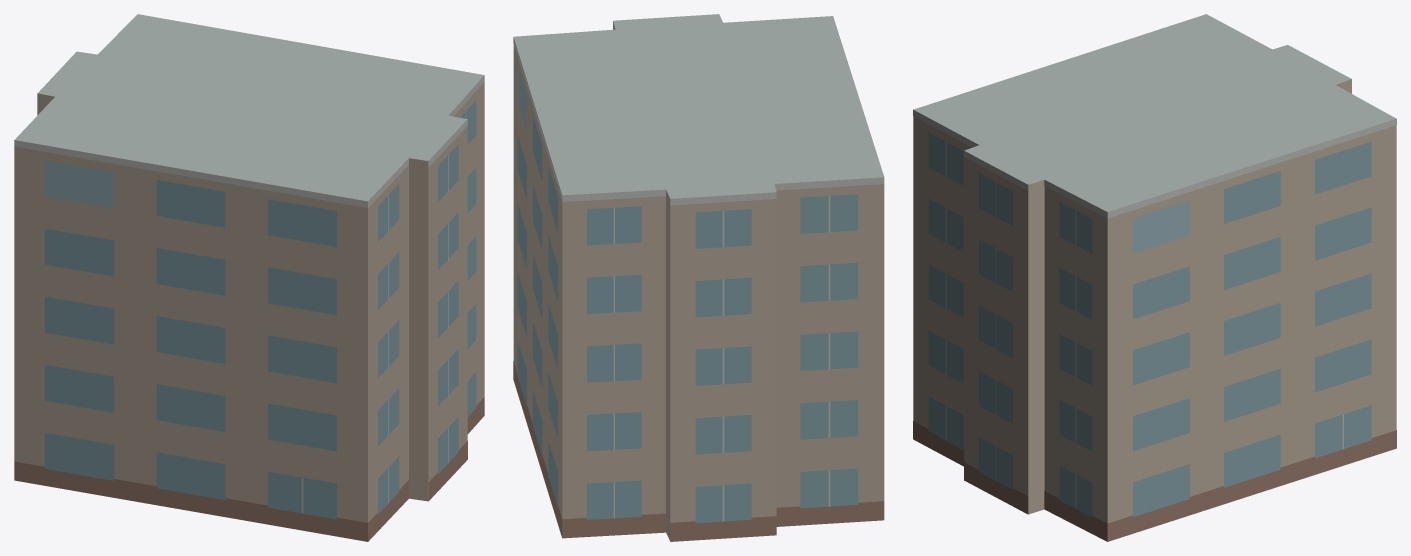
The model's file is survey-upis-32741708.glb.
3 renders of one model, left to right at view 1: azimuth 30°, elevation 25°; view 2: azimuth 150°, elevation 25°; view 3: azimuth 270°, elevation 25°, orthographic. The views are drawn at different scales.
Visible parts, largest first — view 1: survey-upis-32741708.tmp; view 2: survey-upis-32741708.tmp; view 3: survey-upis-32741708.tmp.
Part boxes in pixels (x1,y1,x2,y2): survey-upis-32741708.tmp: (14, 14, 484, 541); survey-upis-32741708.tmp: (513, 14, 884, 541); survey-upis-32741708.tmp: (913, 14, 1396, 541).
Size of the model in its own units: 16.24 by 12.6 by 16.75.
